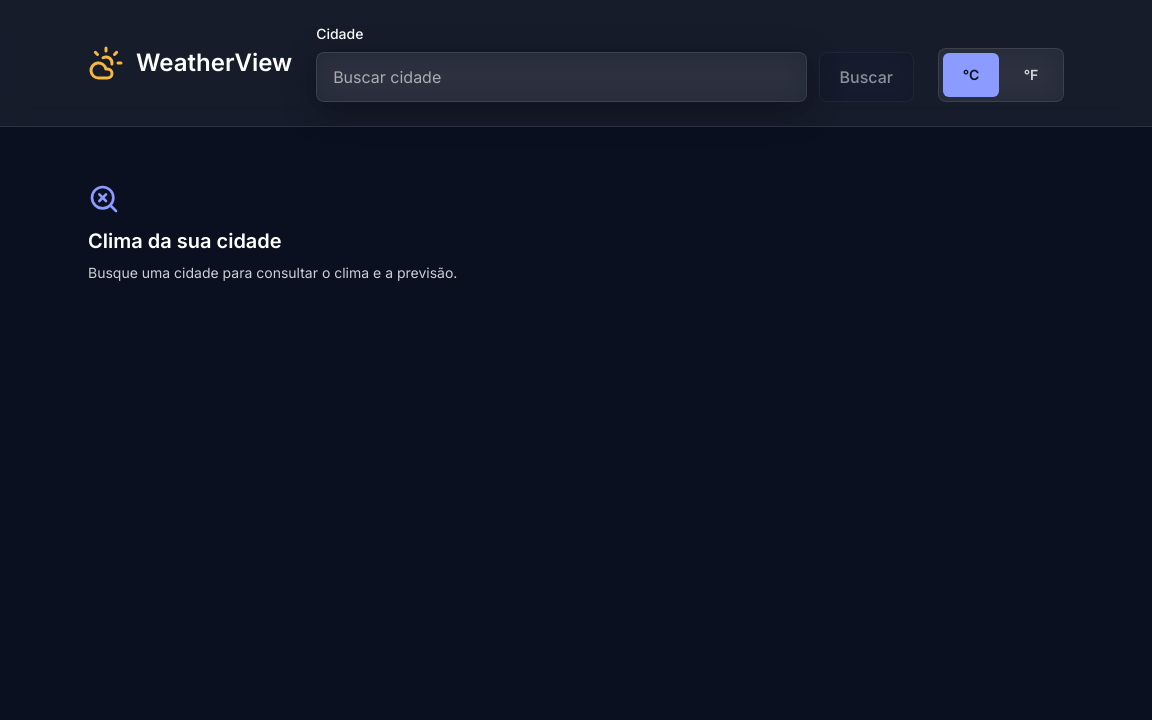
Test: fluxo de busca (App + useWeather real) › mais de 1 resultado: exibe a lista e escolher uma cidade carrega o clima
Type "Recife" into the search field.
click(561, 77); type("Recife")  # box [316, 52, 806, 102]
Then press Enter
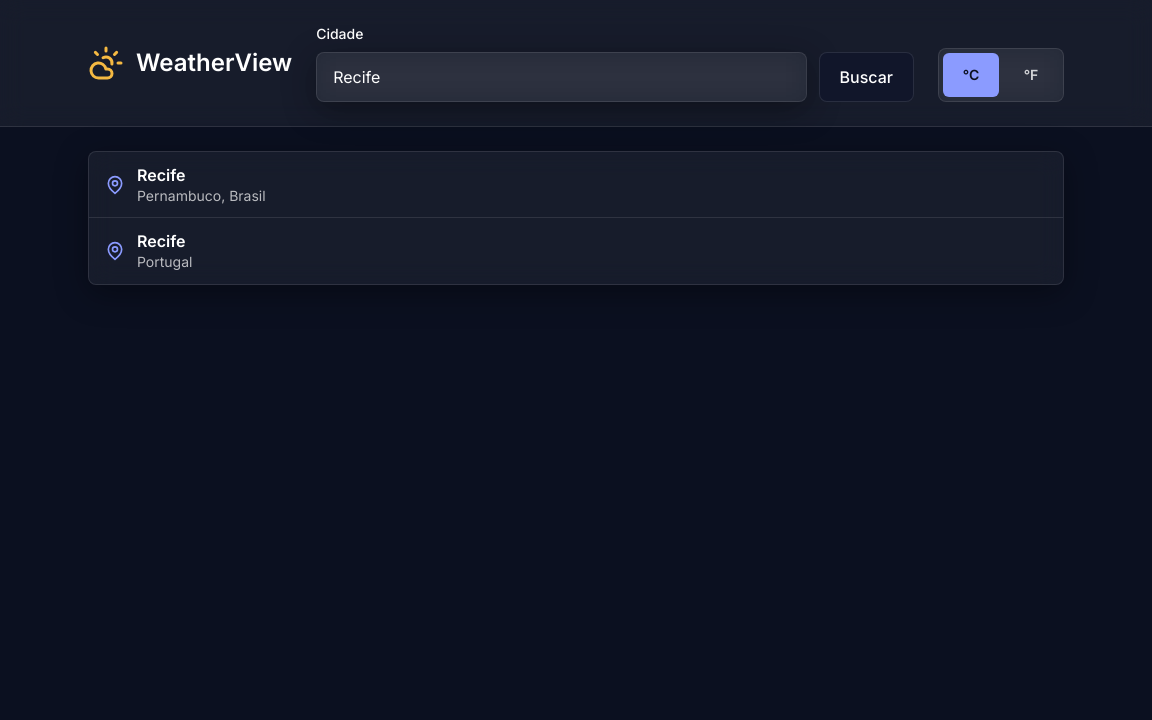
Click the button "Recife Portugal".
click(161, 241)  # box [89, 218, 1063, 284]
(page scrolled)
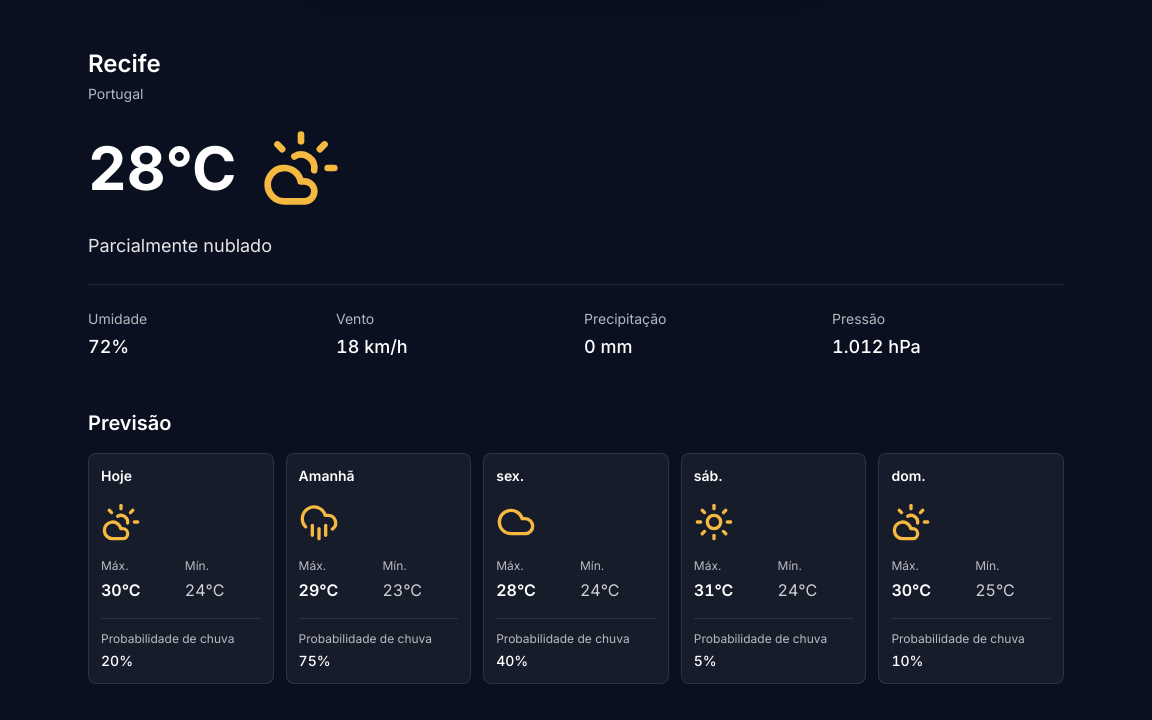
Check: the element "Recife" is shown, box [88, 24, 1064, 385]
